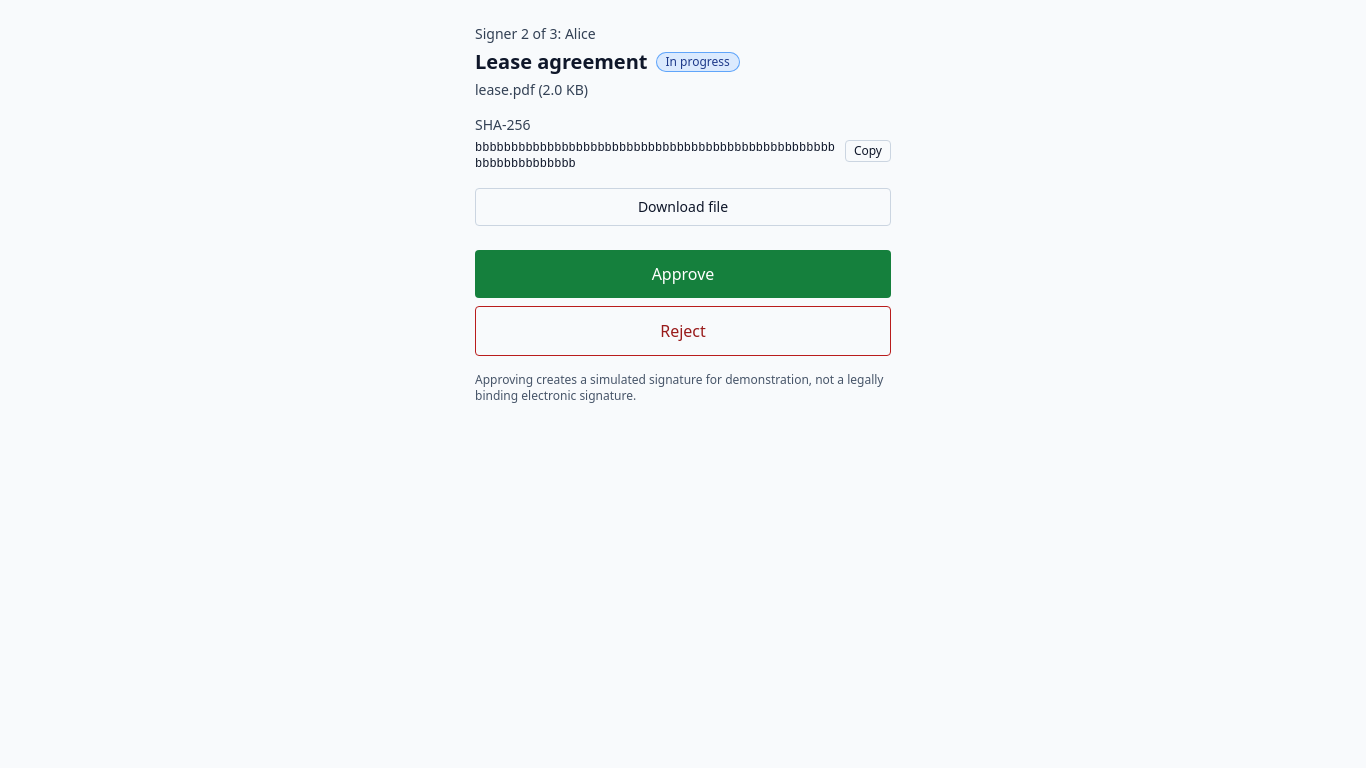
Test: signing page › requires a reason before rejecting
The image size is (1366, 768).
Step 1. Click the button "Reject" → (683, 331), box [475,306,891,356]
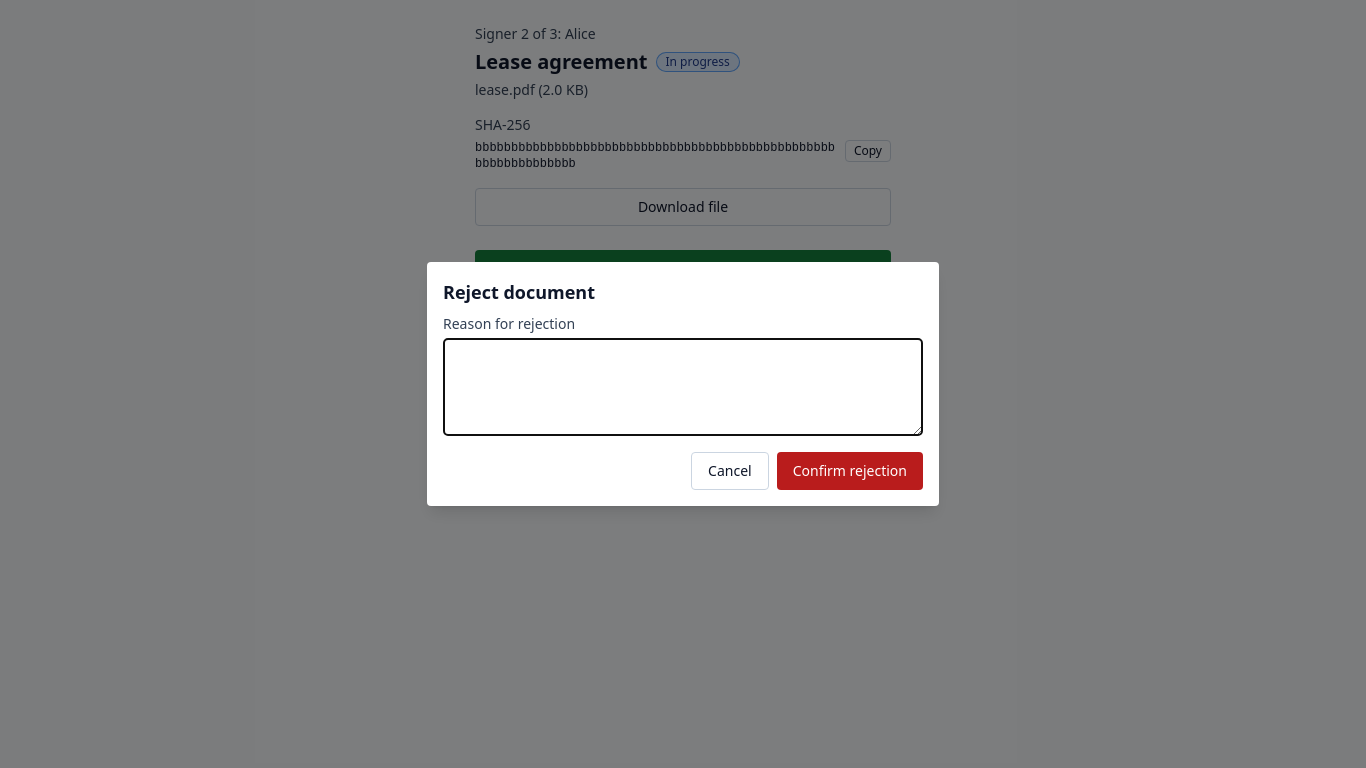
Step 2. Click the button "Confirm rejection" → (850, 471), box [777,452,923,490]
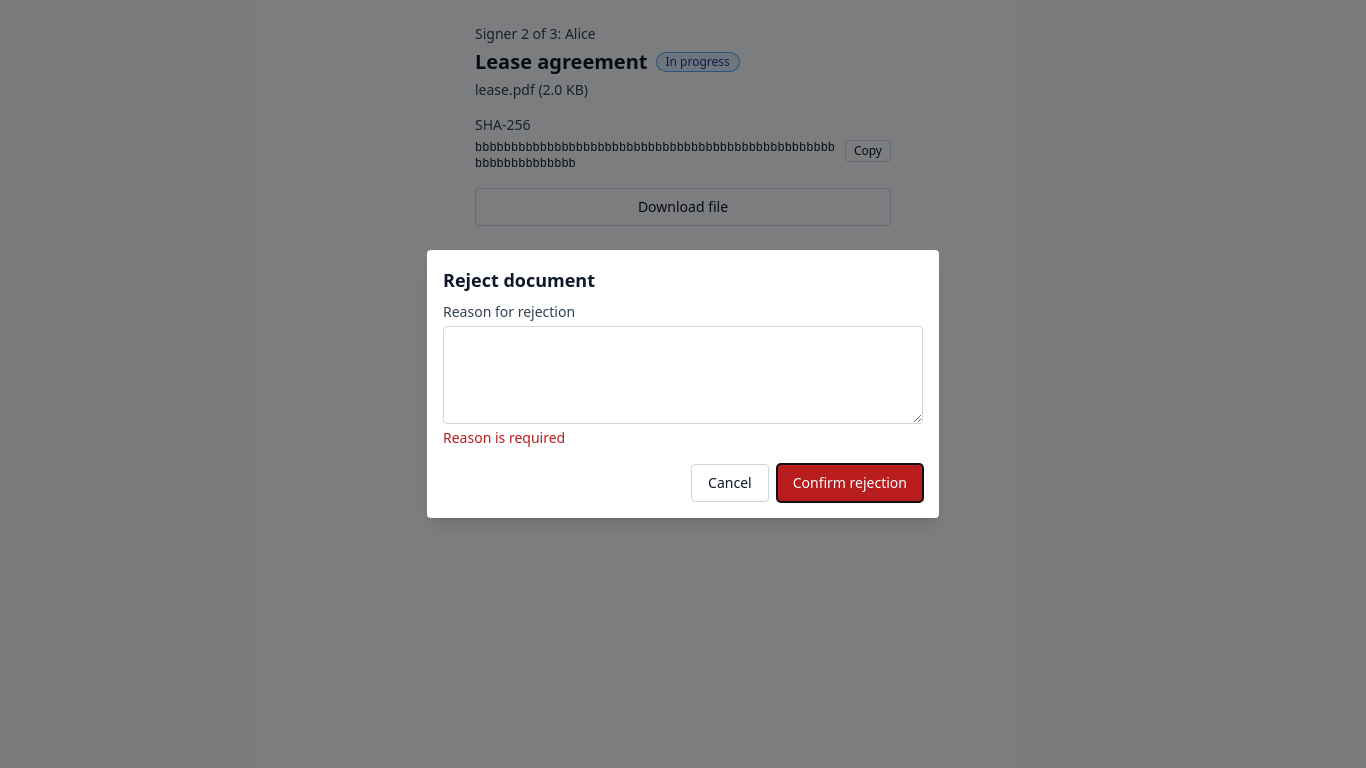
expect the text "Reason is required" is shown: met, box [443,428,565,447]
Step 3. Type "Wrong amount" into the text box labelled "Reason for rejection" → (683, 375), box [443,326,923,424]
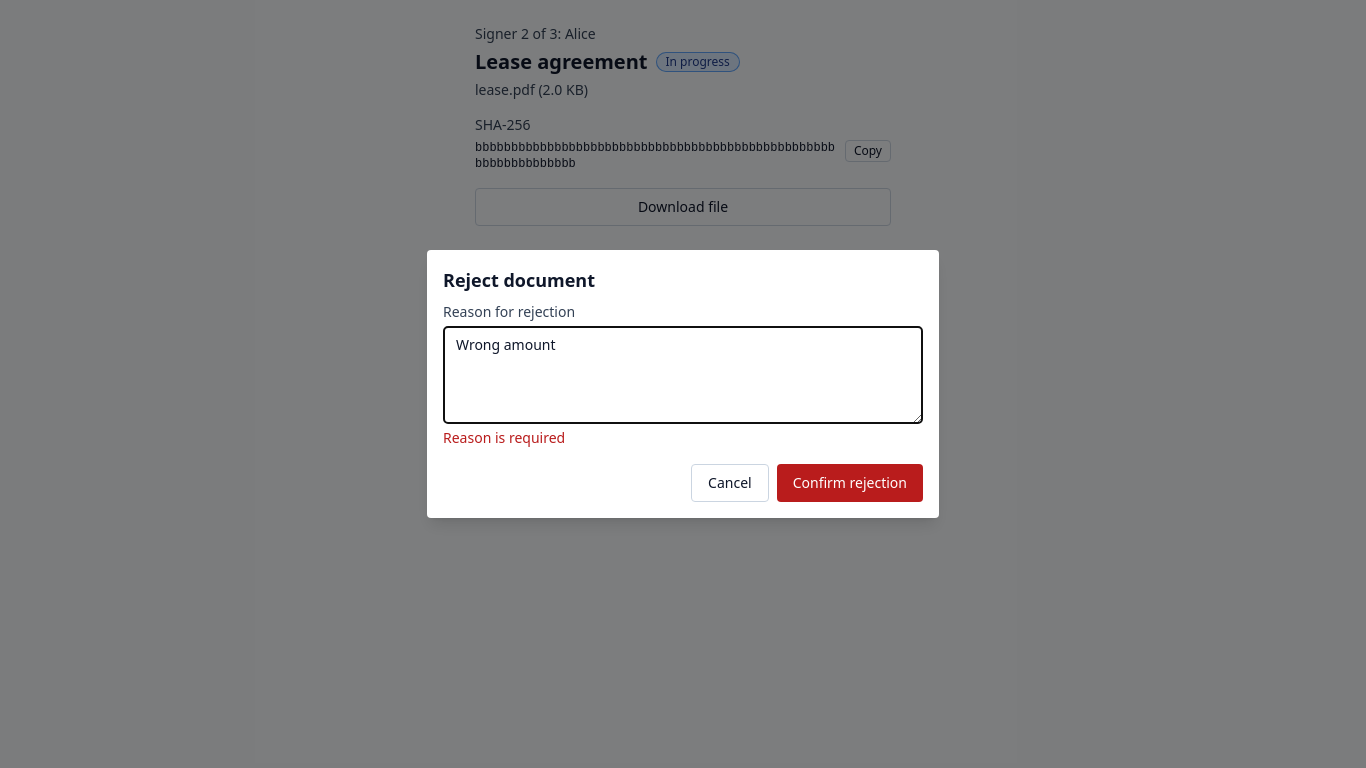
Step 4. Click the button "Confirm rejection" → (850, 483), box [777,464,923,502]
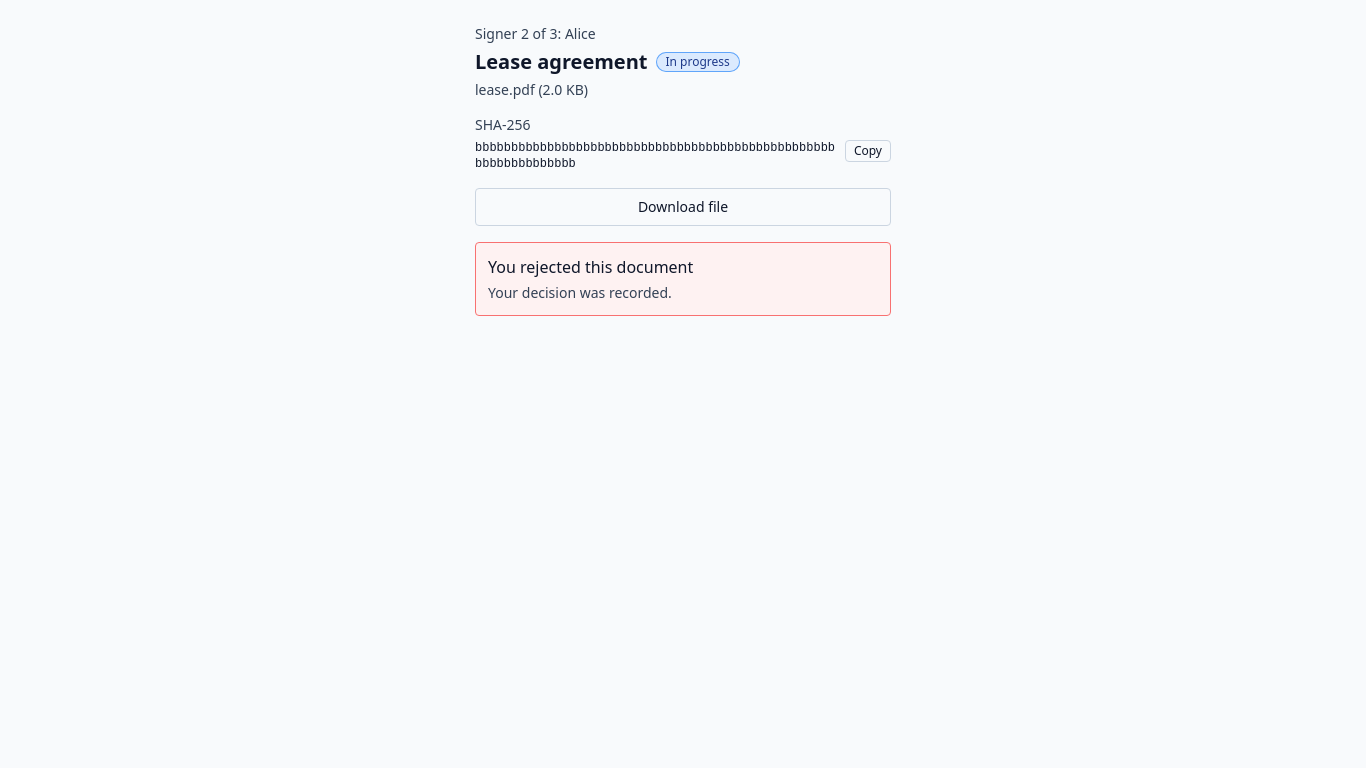
expect the text "You rejected this document" is shown: met, box [488,256,693,278]
expect the dialog is gone: met
